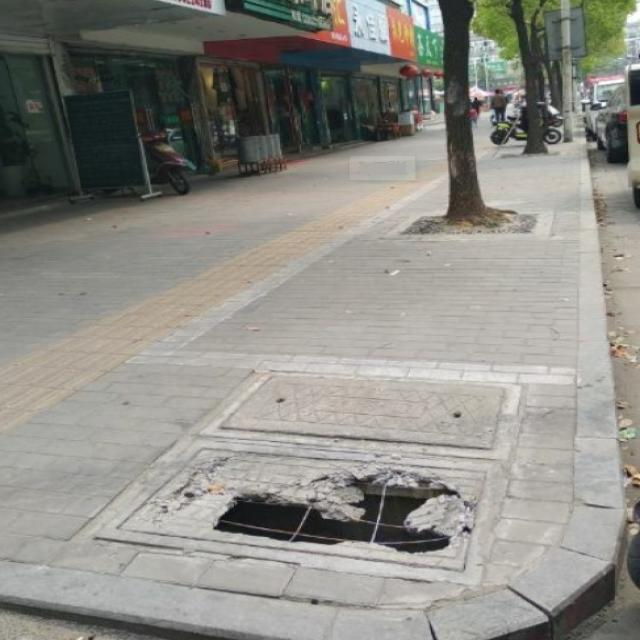Broken: (78, 441, 562, 588)
Good: (203, 362, 528, 459)
